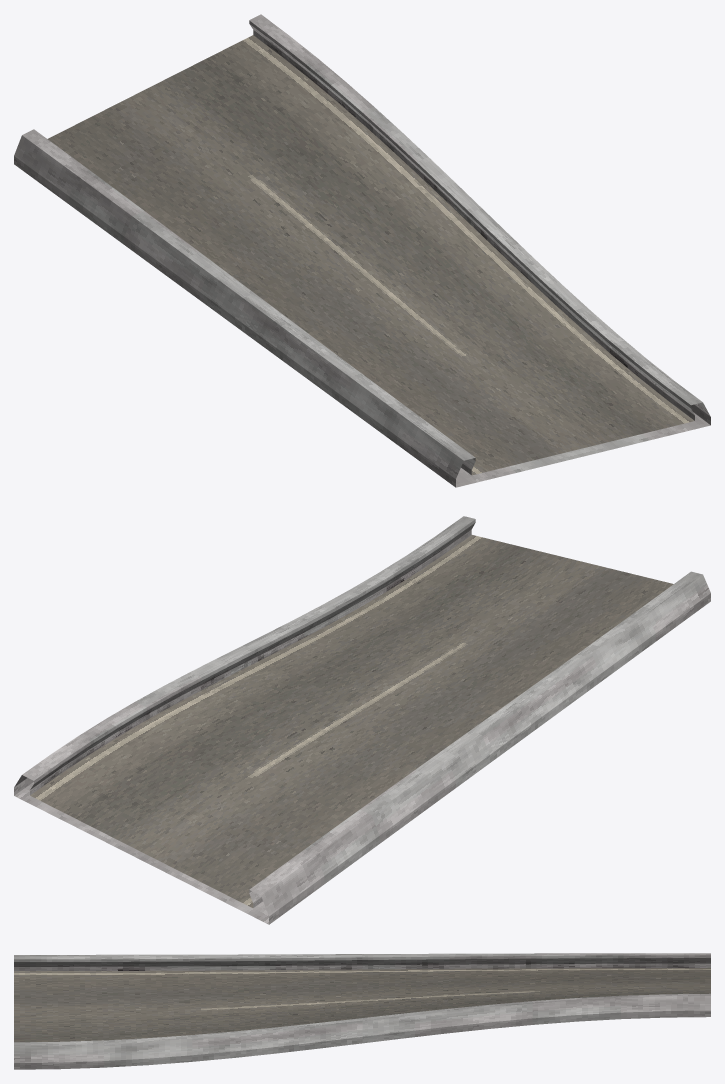
The model's file is straight3.glb.
3 renders of one model, top to bottom at view 1: azimuth 30°, elevation 25°; view 2: azimuth 150°, elevation 25°; view 3: azimuth 270°, elevation 25°, orthographic. The views are drawn at different scales.
Parts seen in each view (by area): view 1: road-Straight-Flat-HalfBankedLeft-Even-Center-Size3; view 2: road-Straight-Flat-HalfBankedLeft-Even-Center-Size3; view 3: road-Straight-Flat-HalfBankedLeft-Even-Center-Size3.
Boxes of the visible parts, box(x1,y1,x2,y2) form: road-Straight-Flat-HalfBankedLeft-Even-Center-Size3: box(14, 14, 710, 487); road-Straight-Flat-HalfBankedLeft-Even-Center-Size3: box(14, 516, 710, 924); road-Straight-Flat-HalfBankedLeft-Even-Center-Size3: box(14, 953, 710, 1069).
Size of the model in its own units: 1 by 0.3359 by 3.
2 materials, 2 textured.
